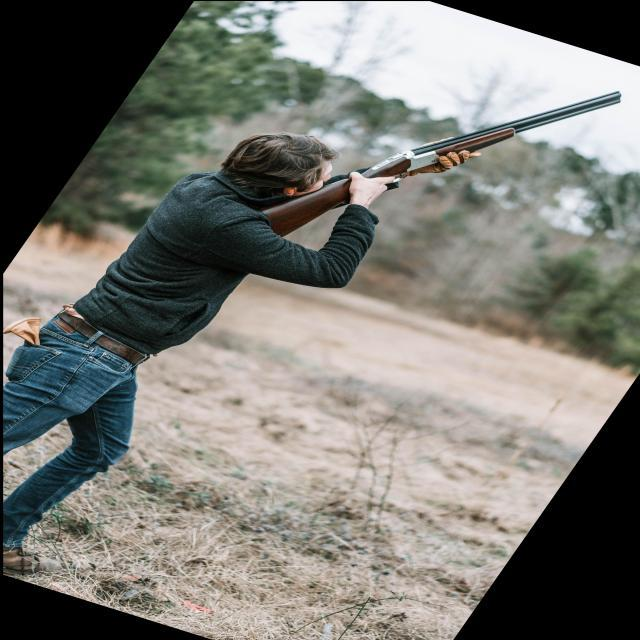weapon: (259, 88, 624, 238)
